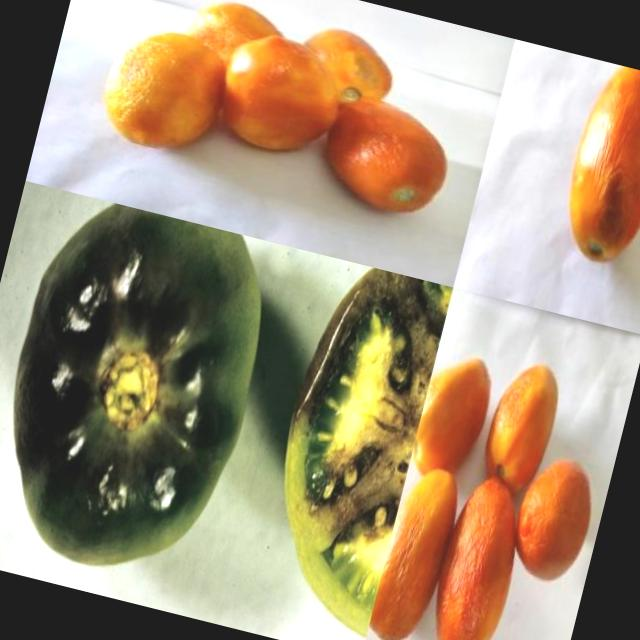Rotten_Tomato: (0, 188, 285, 594), (233, 254, 453, 640), (86, 15, 244, 166), (198, 20, 356, 168), (308, 86, 464, 230), (415, 462, 537, 640), (547, 59, 640, 279), (365, 454, 468, 640), (470, 352, 570, 508), (501, 448, 605, 590), (407, 344, 503, 488), (289, 17, 407, 118), (176, 0, 297, 83)
